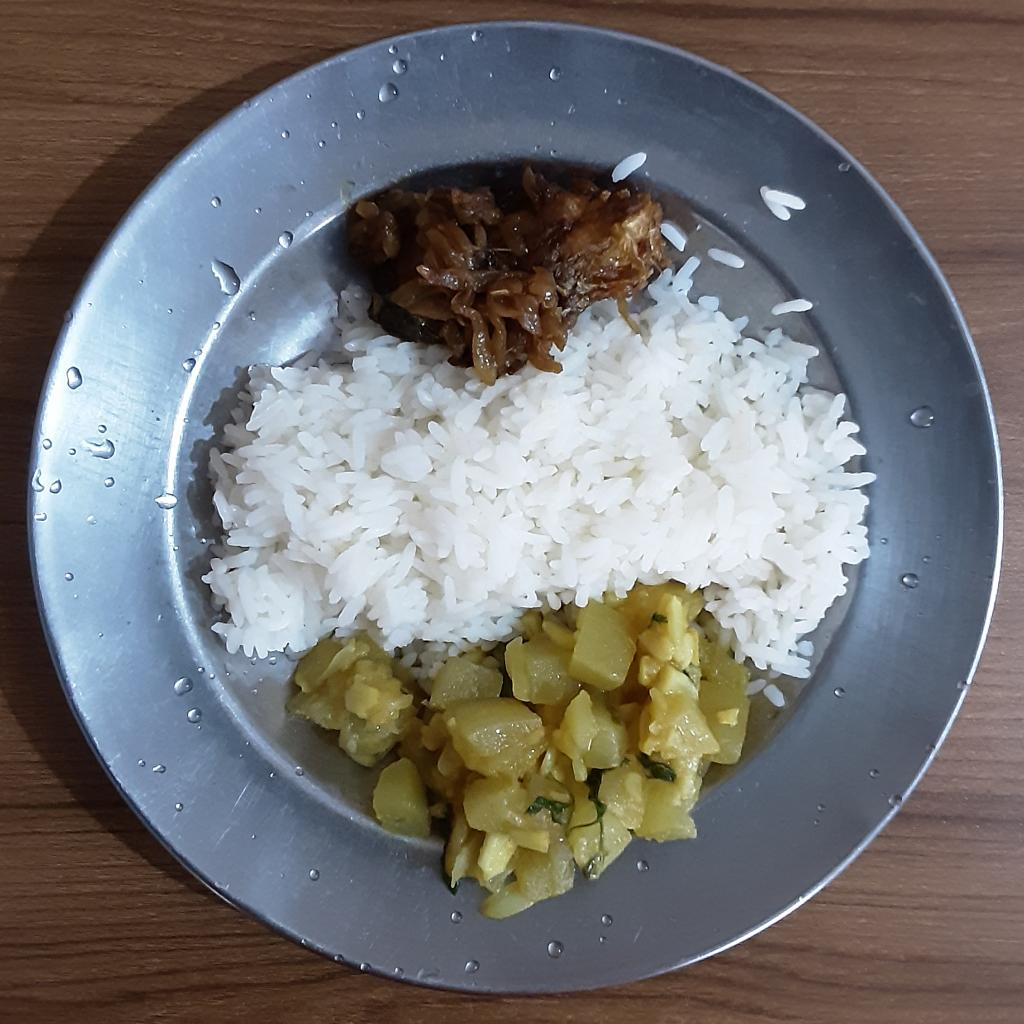fish: (321, 158, 676, 371)
lau: (287, 584, 754, 920)
rice: (201, 251, 888, 706)
